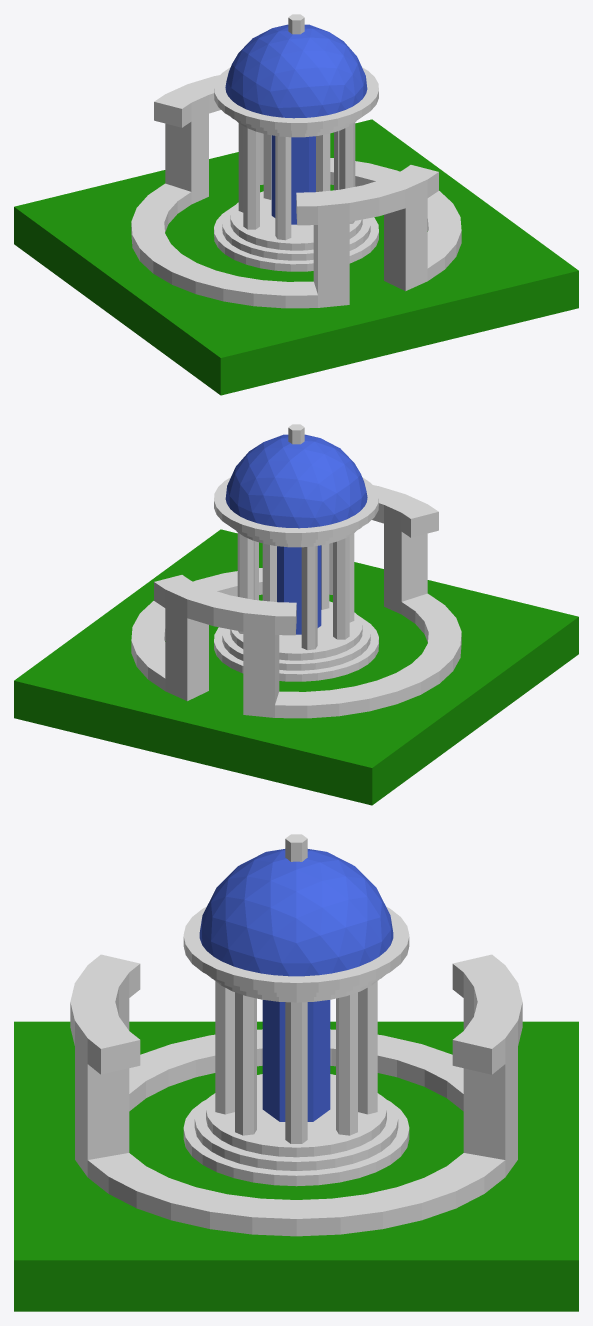
Rendered from oracle.dae.
The picture shows the model from 3 angles, top to bottom: view 1: azimuth 30°, elevation 25°; view 2: azimuth 150°, elevation 25°; view 3: azimuth 270°, elevation 25°; orthographic projection. The views are drawn at different scales.
Parts seen in each view (by area): view 1: Cube.004, Cylinder.001, Icosphere, Cylinder, Cylinder.003, Cylinder.005; view 2: Cube.004, Cylinder.001, Icosphere, Cylinder, Cylinder.003, Cylinder.005; view 3: Cube.004, Cylinder.001, Cylinder, Icosphere, Cylinder.003, Cylinder.005.
Part boxes in pixels (x1,y1,x2,y2): Cube.004: [14, 119, 578, 395]; Cylinder.001: [131, 75, 461, 308]; Icosphere: [225, 24, 367, 118]; Cylinder: [214, 67, 378, 271]; Cylinder.003: [238, 122, 355, 240]; Cylinder.005: [271, 135, 315, 224]; Cube.004: [14, 529, 578, 805]; Cylinder.001: [131, 485, 461, 718]; Icosphere: [225, 434, 367, 528]; Cylinder: [214, 477, 378, 681]; Cylinder.003: [237, 532, 354, 650]; Cylinder.005: [277, 545, 321, 634]; Cube.004: [14, 1021, 578, 1311]; Cylinder.001: [70, 954, 522, 1236]; Cylinder: [183, 907, 409, 1186]; Icosphere: [199, 849, 393, 976]; Cylinder.003: [215, 981, 377, 1143]; Cylinder.005: [262, 1000, 330, 1121].
Bounding box in the file's own units: 0.02 × 0.02 × 0.0138.
